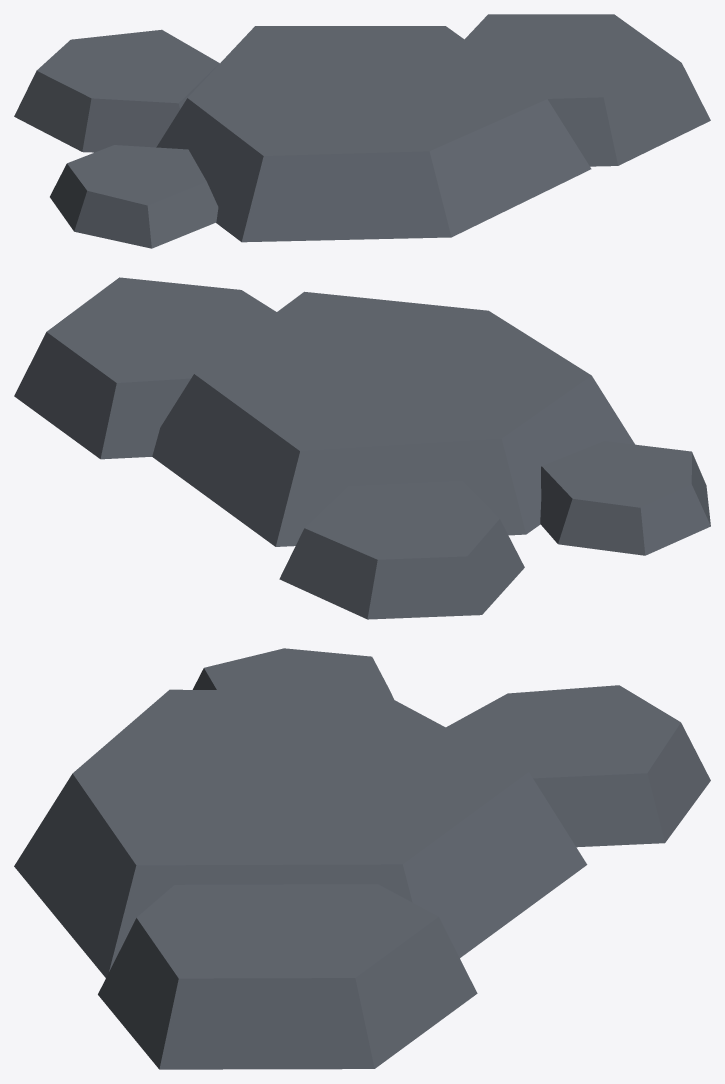
The model's file is Environment_Objects_Stone_04.fbx.
The picture shows the model from 3 angles, top to bottom: view 1: azimuth 30°, elevation 25°; view 2: azimuth 150°, elevation 25°; view 3: azimuth 270°, elevation 25°; orthographic projection. The views are drawn at different scales.
Parts seen in each view (by area): view 1: Environment_Objects_Stone_04; view 2: Environment_Objects_Stone_04; view 3: Environment_Objects_Stone_04.
Boxes of the visible parts, x1,y1,x2,y2 form: Environment_Objects_Stone_04: (14,14,710,248); Environment_Objects_Stone_04: (14,277,710,619); Environment_Objects_Stone_04: (14,648,710,1069).
Bounding box in the file's own units: 72.27 × 8.17 × 55.56.
